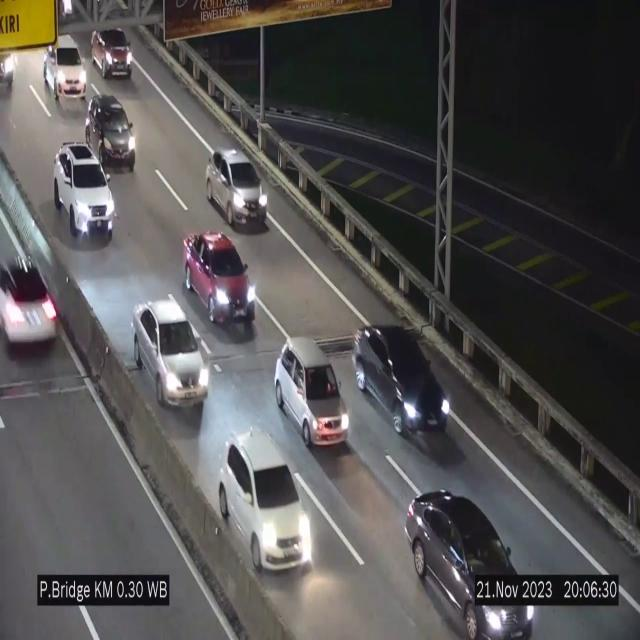Car: (406, 491, 533, 639), (215, 424, 317, 582), (348, 314, 452, 445), (132, 282, 208, 402), (274, 339, 348, 448), (183, 232, 257, 334), (0, 254, 66, 346), (54, 144, 115, 240), (206, 148, 268, 226), (87, 96, 135, 171), (86, 21, 138, 87), (44, 37, 88, 103)
